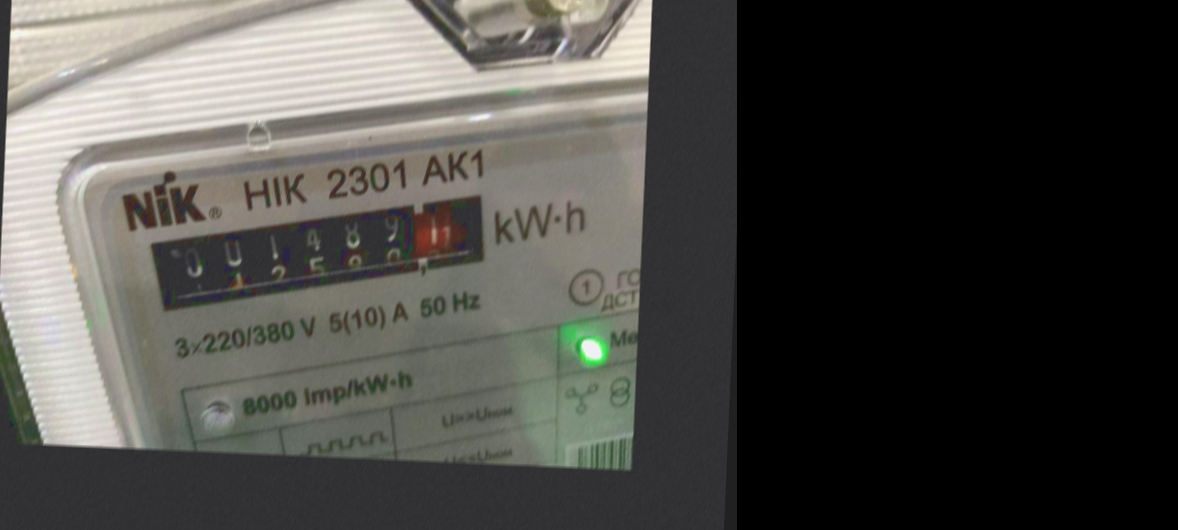0: (217, 233, 244, 270), (178, 245, 204, 281)
1: (421, 210, 442, 249), (261, 231, 283, 263)
4: (300, 223, 323, 254)
8: (340, 216, 362, 253)
9: (379, 212, 400, 245)
screen: (133, 172, 515, 339)
